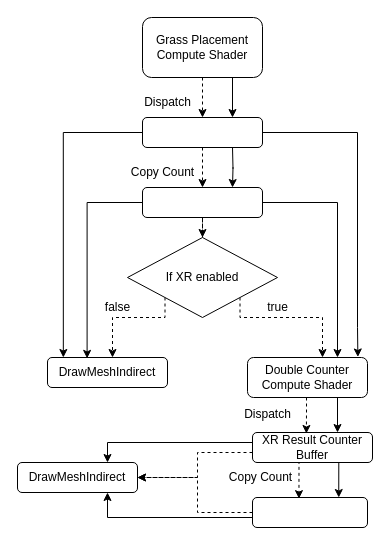
Some shapes in this 390 by 545 pixel diagram are drawn without their labels. Each missing label, with the centre of its shape:
"Argument Buffer" belongs at point (202, 202).
"Result Append Buffer" belongs at point (202, 132).
"XR Argument Buffer" belongs at point (310, 512).
